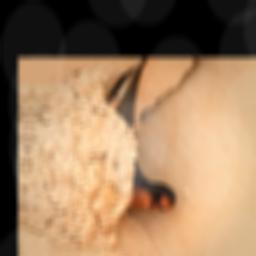Swallow: (88, 59, 189, 214)
